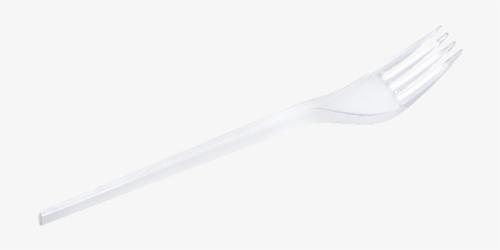Fork: (38, 25, 463, 226)
